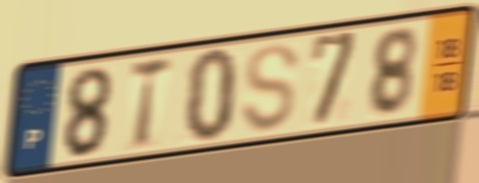0: (179, 46, 242, 146)
7: (309, 30, 360, 131)
8: (366, 24, 421, 120), (63, 63, 115, 160)
S: (238, 40, 302, 136)
T: (126, 53, 176, 154)
